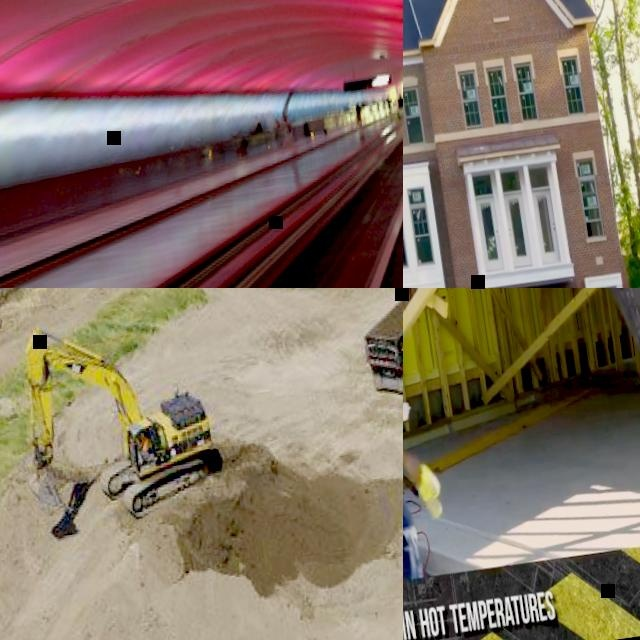Person: (403, 288, 436, 582), (138, 430, 152, 455)
Safety Vest: (141, 438, 153, 454)
machinery: (13, 300, 230, 532), (355, 288, 403, 401)
